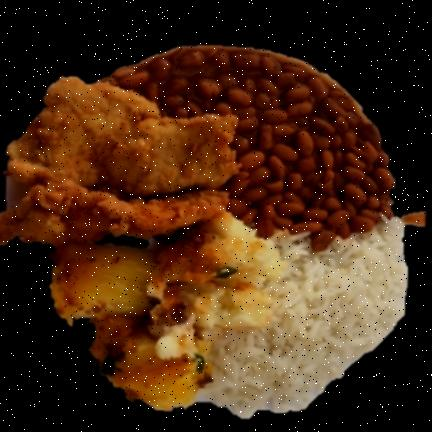cassava: (50, 242, 211, 410)
fish: (0, 77, 239, 244)
rice: (203, 215, 407, 417)
salad: (108, 46, 394, 237)
